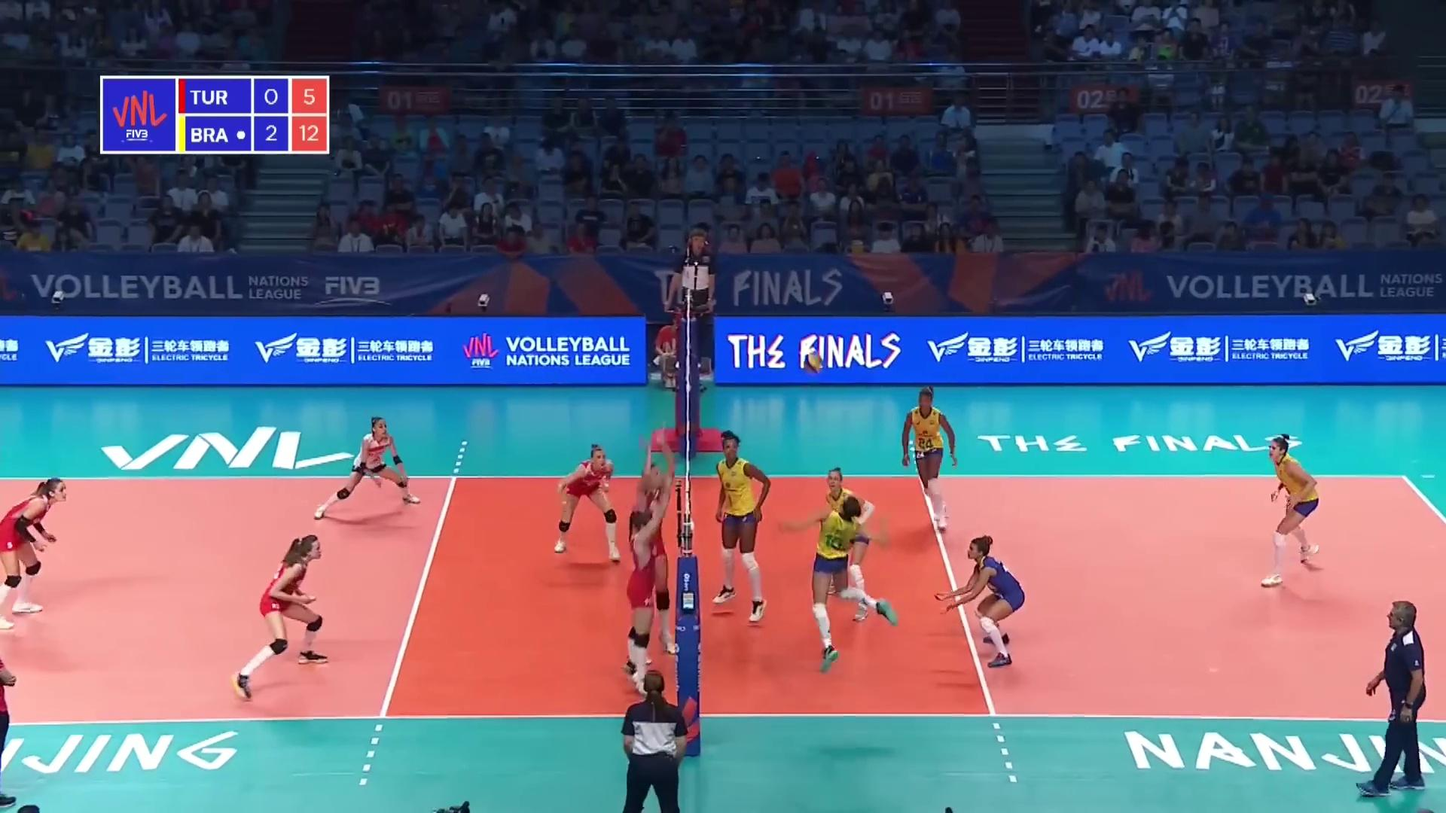player: (791, 497, 895, 667), (228, 535, 329, 697), (941, 535, 1032, 670), (312, 419, 426, 519), (712, 432, 771, 623), (0, 477, 69, 631), (635, 447, 682, 662), (630, 477, 675, 692), (1261, 436, 1324, 583), (898, 390, 957, 541), (553, 446, 622, 564), (825, 467, 873, 621)
refree: (623, 667, 690, 810), (669, 230, 715, 364)
